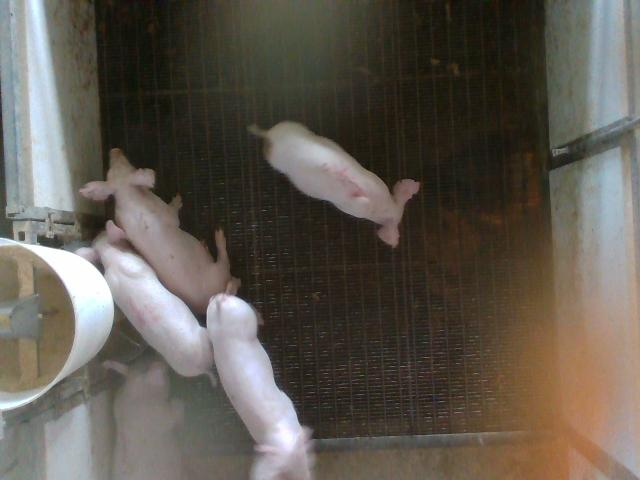pig-4: (76, 221, 214, 376)
pig-5: (249, 122, 419, 247)
